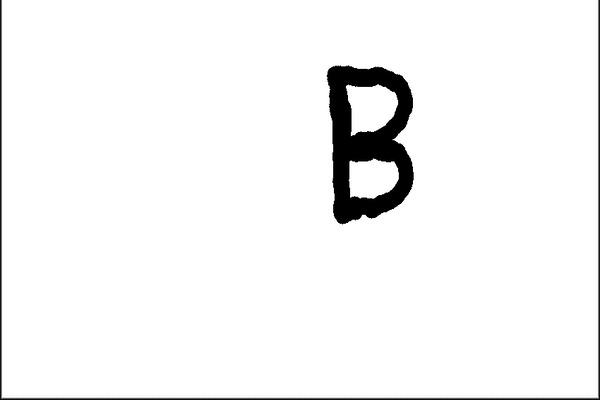B: (312, 57, 424, 227)
